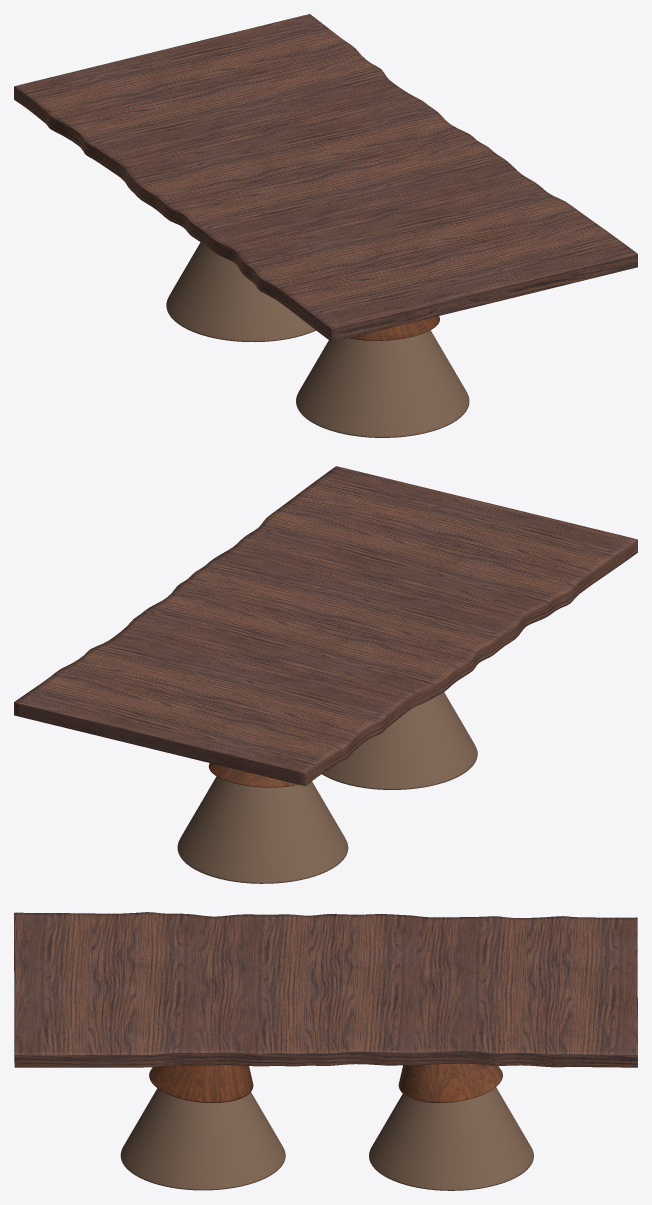
The model's file is St_Hilker_Boney_M.glb.
3 renders of one model, top to bottom at view 1: azimuth 30°, elevation 25°; view 2: azimuth 150°, elevation 25°; view 3: azimuth 270°, elevation 25°, orthographic. The views are drawn at different scales.
Visible parts, largest first — view 1: Boney M; view 2: Boney M; view 3: Boney M.
Part boxes in pixels (<box>): Boney M: <box>14,14,637,437</box>; Boney M: <box>14,466,637,883</box>; Boney M: <box>14,912,637,1190</box>.
Bounding box in the file's own units: 1.42 × 0.8 × 2.61.
Materials: 3 (2 with a texture image).
